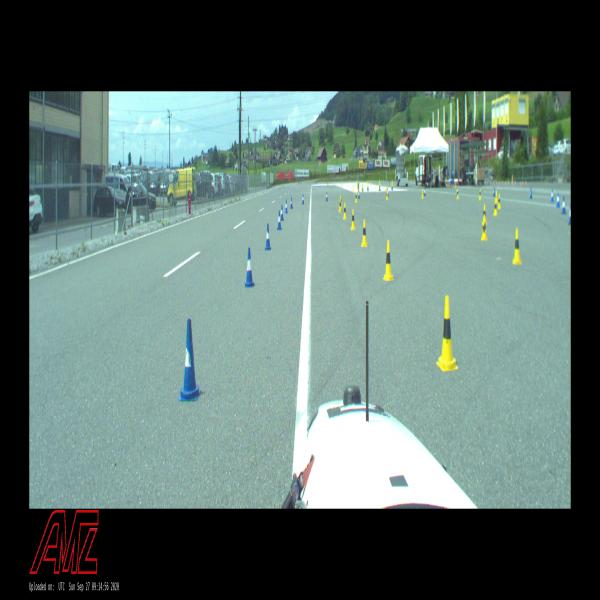blue_cone: (181, 319, 199, 400), (245, 248, 254, 287), (265, 224, 271, 250), (277, 210, 282, 229), (562, 196, 566, 214), (280, 205, 284, 220), (557, 192, 560, 207), (568, 204, 570, 225), (551, 189, 554, 202), (285, 200, 288, 212), (290, 197, 293, 209), (493, 186, 495, 197), (302, 194, 304, 204), (530, 188, 532, 198), (387, 187, 389, 197), (326, 192, 328, 201), (424, 187, 426, 196), (358, 190, 360, 199), (388, 179, 390, 187), (452, 169, 454, 177), (450, 176, 452, 184), (367, 187, 369, 191), (391, 187, 393, 191), (452, 178, 454, 182), (379, 186, 380, 190), (300, 177, 300, 182), (298, 178, 298, 182), (358, 173, 358, 180), (457, 186, 457, 196)
orange_cone: (490, 180, 492, 184), (514, 180, 516, 184), (520, 181, 521, 186), (508, 180, 509, 184), (512, 182, 513, 186), (522, 181, 523, 185), (499, 181, 500, 185), (493, 181, 494, 184), (297, 182, 298, 185), (496, 181, 497, 184), (502, 181, 503, 184), (296, 178, 296, 182), (526, 181, 526, 185), (506, 180, 506, 184)
yellow_cone: (436, 296, 456, 372), (384, 241, 393, 280), (513, 229, 521, 263), (362, 220, 368, 246), (481, 204, 487, 225), (482, 217, 487, 240), (351, 210, 356, 230), (343, 203, 347, 219), (494, 196, 497, 214), (339, 198, 342, 212), (495, 191, 498, 203), (498, 194, 500, 209), (355, 192, 358, 202), (479, 188, 481, 199), (340, 196, 342, 207), (457, 189, 459, 199), (386, 191, 388, 200), (422, 189, 424, 198), (391, 179, 393, 186), (352, 185, 354, 191), (385, 186, 387, 190), (367, 180, 368, 187), (362, 182, 363, 188), (379, 179, 380, 185), (512, 174, 513, 180), (362, 188, 363, 191), (358, 181, 359, 183), (358, 184, 359, 186), (358, 188, 359, 190), (390, 181, 390, 187), (456, 182, 456, 188), (447, 180, 447, 186), (342, 183, 342, 187), (371, 180, 371, 184)
